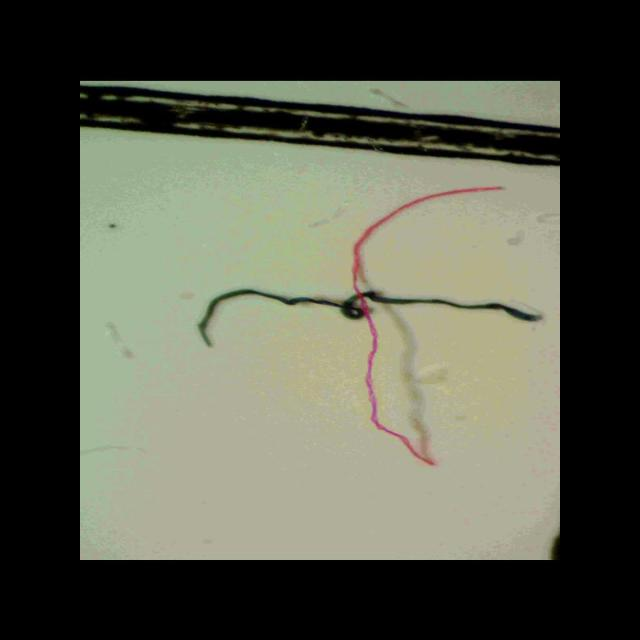Fibre: (347, 182, 507, 468), (175, 287, 549, 349)
